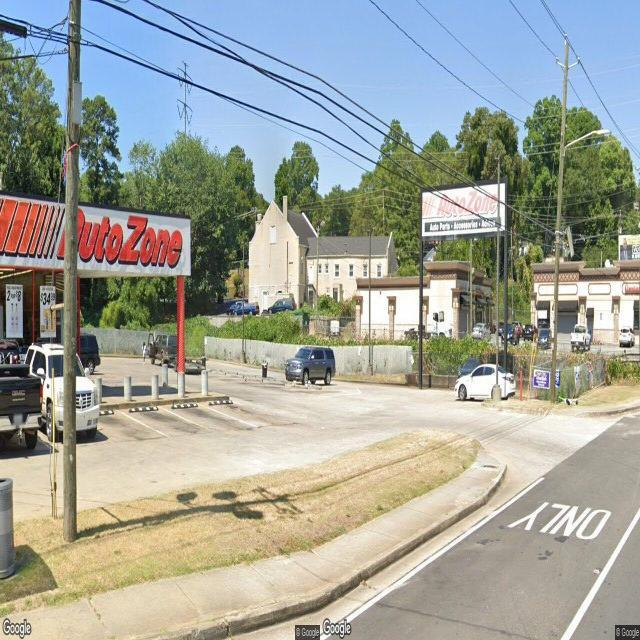trash_can: (0, 476, 15, 574)
